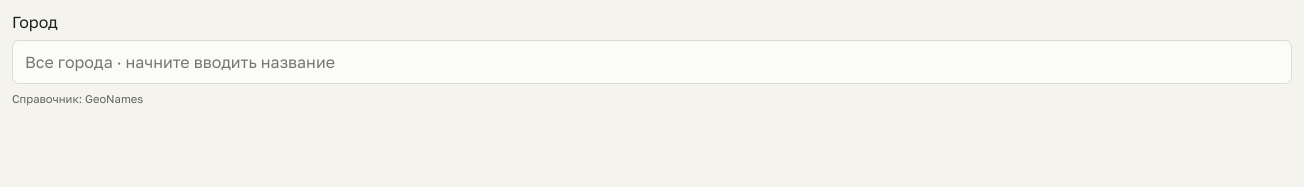
debounces city suggestions and selects with the keyboard using one input
Type "Екат" into the dropdown. click: (652,62)
box: [12, 40, 1292, 84]
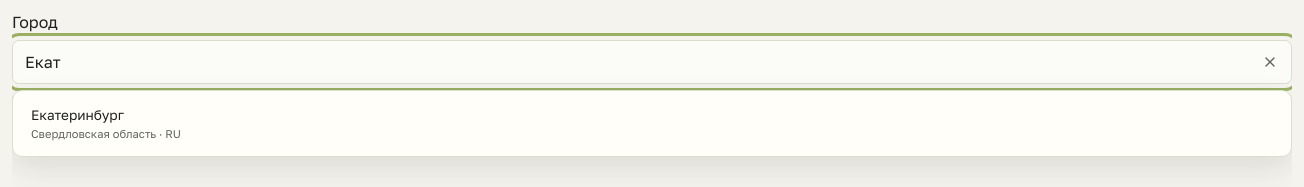
Now the option "Екатеринбург Свердловская область · RU" is shown, box [31, 107, 181, 140]
Press Arrowdown Enter
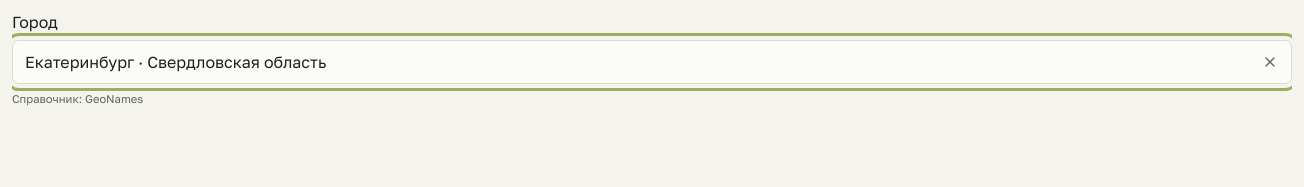
Now the dropdown holds "Екатеринбург · Свердловская область", box [12, 40, 1292, 84]
Now the dropdown is collapsed, box [12, 40, 1292, 84]
Click the button named "Очистить город". click: (1270,62)
box: [1254, 46, 1286, 78]
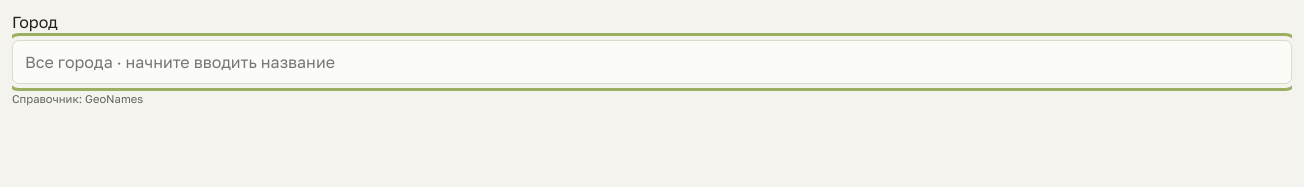
Now the dropdown is empty, box [12, 40, 1292, 84]
